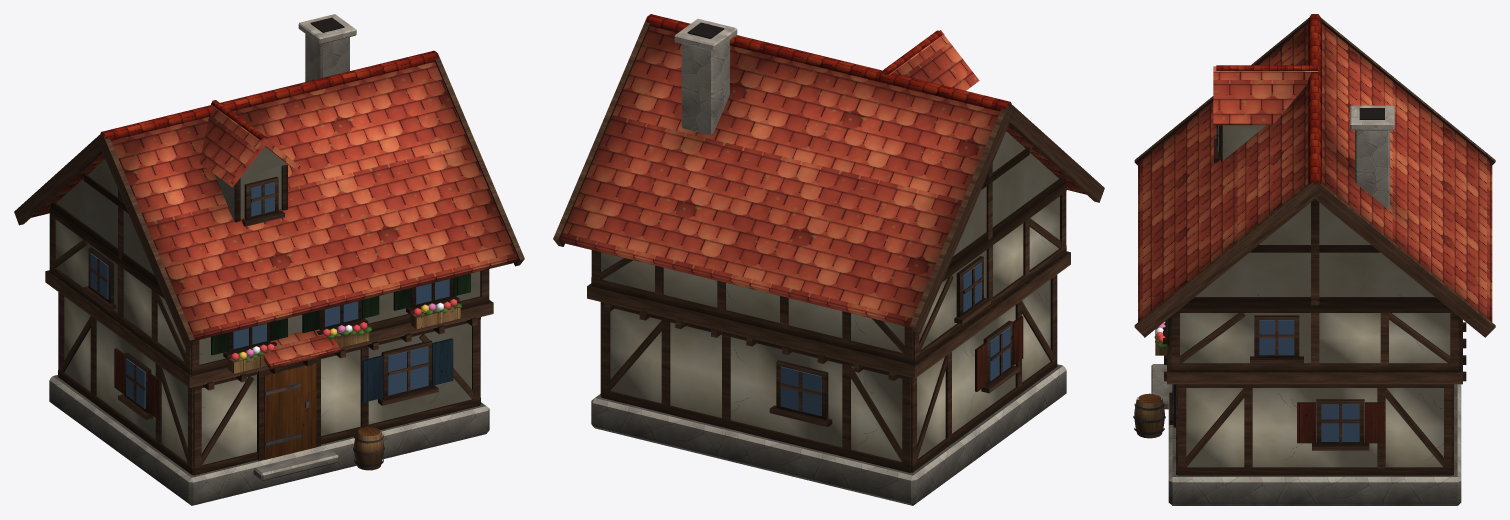
File: town_house_big.glb
The picture shows the model from 3 angles, left to right: view 1: azimuth 30°, elevation 25°; view 2: azimuth 150°, elevation 25°; view 3: azimuth 270°, elevation 25°; orthographic projection. The views are drawn at different scales.
Parts seen in each view (by area): view 1: town_house_big; view 2: town_house_big; view 3: town_house_big.
Boxes of the visible parts, <box> form: town_house_big: <box>14,14,524,505</box>; town_house_big: <box>553,14,1104,505</box>; town_house_big: <box>1133,14,1495,505</box>.
Size of the model in its own units: 6.23 by 6.28 by 5.69.
Materials: 9 (7 with a texture image).
